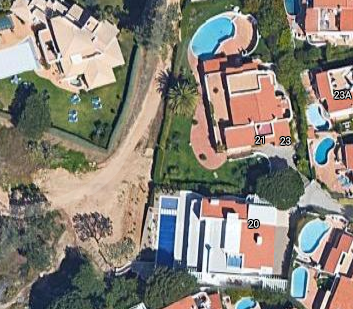pool: (197, 24, 233, 57), (157, 213, 177, 268), (299, 218, 327, 253), (291, 267, 309, 299), (315, 138, 334, 168), (309, 106, 330, 128), (237, 300, 257, 308)
